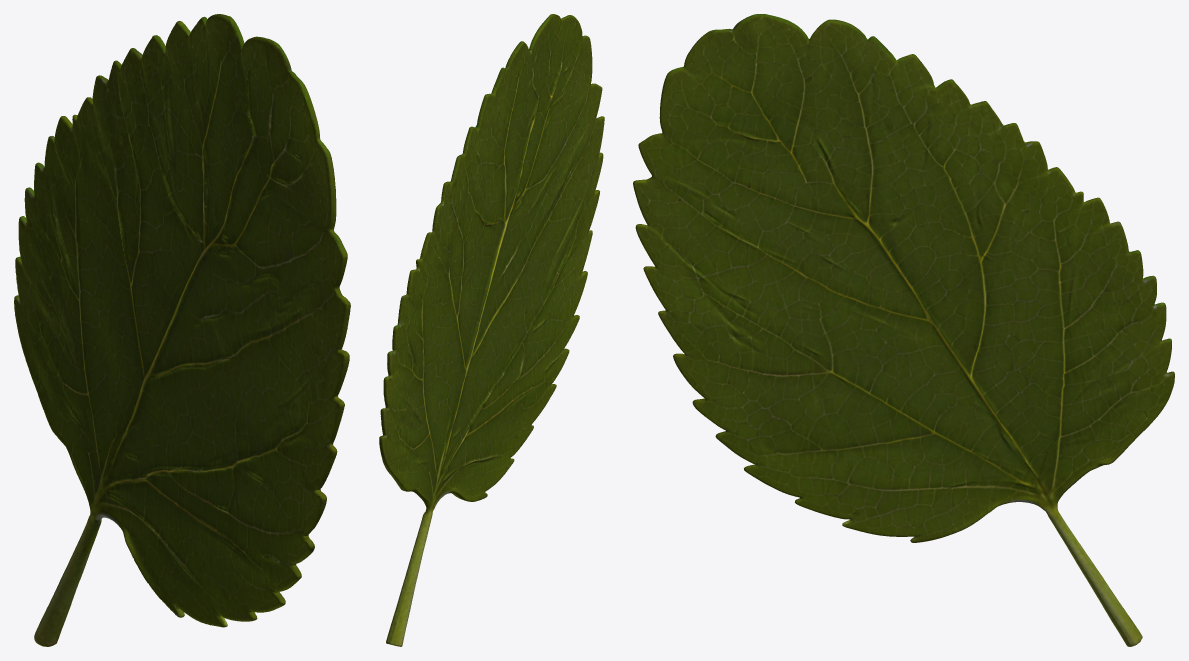
Rendered from tripo_convert_a5711166-172c-41a2-a2c1-7bd9c0805eff.obj.
The picture shows the model from 3 angles, left to right: view 1: azimuth 30°, elevation 25°; view 2: azimuth 150°, elevation 25°; view 3: azimuth 270°, elevation 25°; orthographic projection. The views are drawn at different scales.
Visible parts, largest first — view 1: tripo_node_a5711166-172c-41a2-a2c1-7bd9c0805eff; view 2: tripo_node_a5711166-172c-41a2-a2c1-7bd9c0805eff; view 3: tripo_node_a5711166-172c-41a2-a2c1-7bd9c0805eff.
Boxes of the visible parts, x1,y1,x2,y2 form: tripo_node_a5711166-172c-41a2-a2c1-7bd9c0805eff: (14, 14, 350, 646); tripo_node_a5711166-172c-41a2-a2c1-7bd9c0805eff: (379, 14, 604, 646); tripo_node_a5711166-172c-41a2-a2c1-7bd9c0805eff: (633, 14, 1174, 646).
Size of the model in its own units: 0.0304 by 1 by 0.7796.
Materials: 1 (1 with a texture image).
